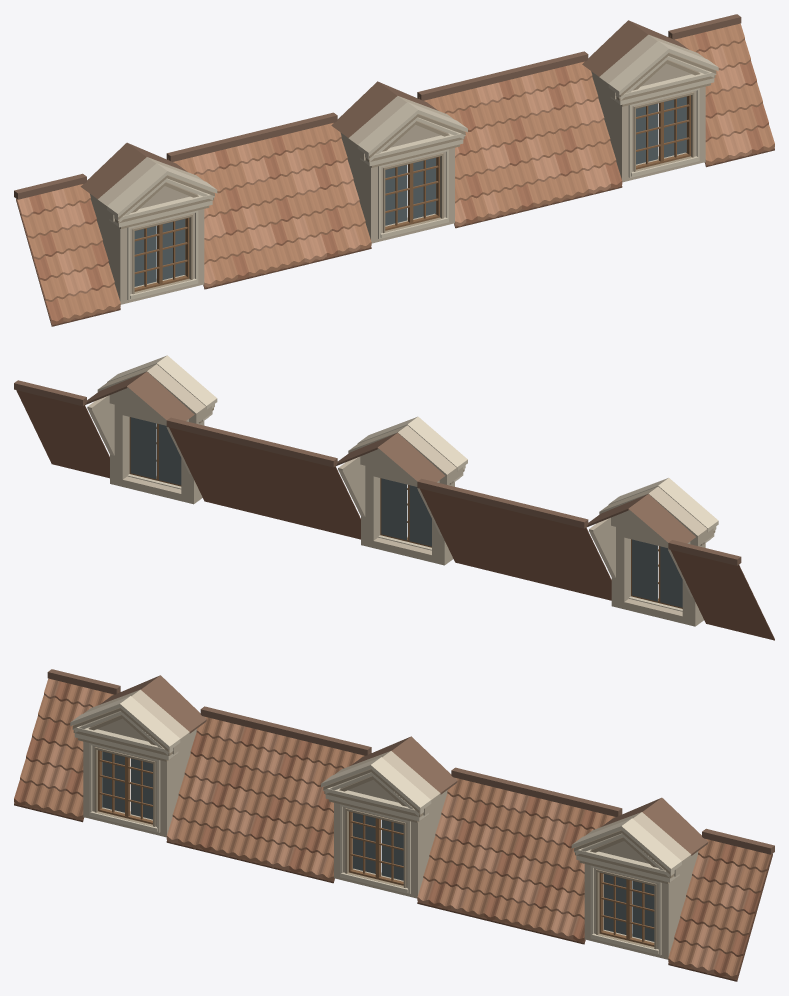
Rendered from xuhui-dongping-eleven-mansard-dormers-raw.glb.
The picture shows the model from 3 angles, top to bottom: view 1: azimuth 30°, elevation 25°; view 2: azimuth 150°, elevation 25°; view 3: azimuth 330°, elevation 25°; orthographic projection.
Visible parts, largest first — view 1: 东平路11号宋氏住宅南坡三扇老虎窗; view 2: 东平路11号宋氏住宅南坡三扇老虎窗; view 3: 东平路11号宋氏住宅南坡三扇老虎窗.
Boxes of the visible parts, x1,y1,x2,y2 form: 东平路11号宋氏住宅南坡三扇老虎窗: [14, 14, 774, 326]; 东平路11号宋氏住宅南坡三扇老虎窗: [14, 355, 774, 640]; 东平路11号宋氏住宅南坡三扇老虎窗: [14, 669, 774, 981].
Size of the model in its own units: 10.96 by 1.92 by 1.12.
